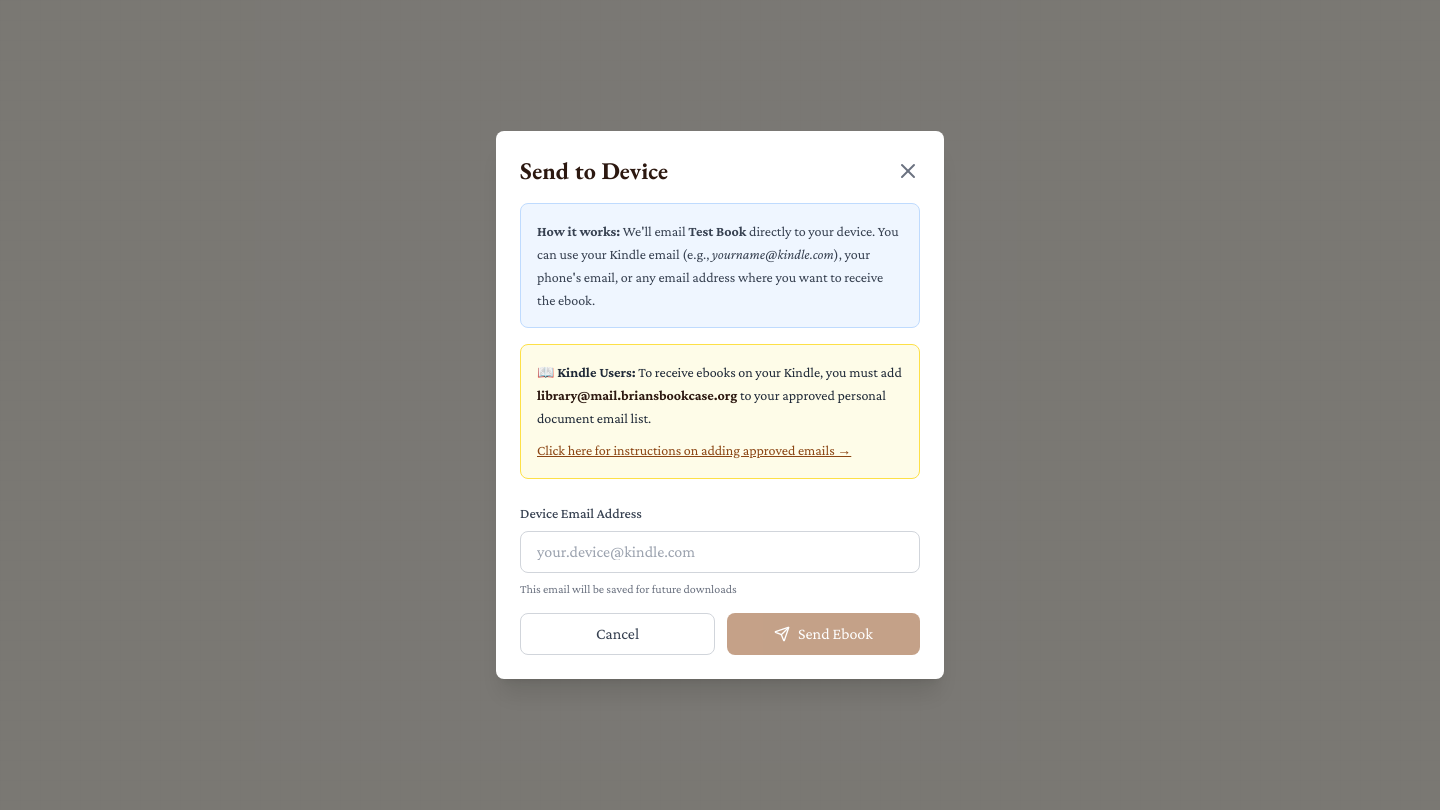
SendToDeviceModal › should show error message on failed send
Type "test@kindle.com" into the field with placeholder "your.device@kindle.com" at (720, 552), box [520,531,920,573]
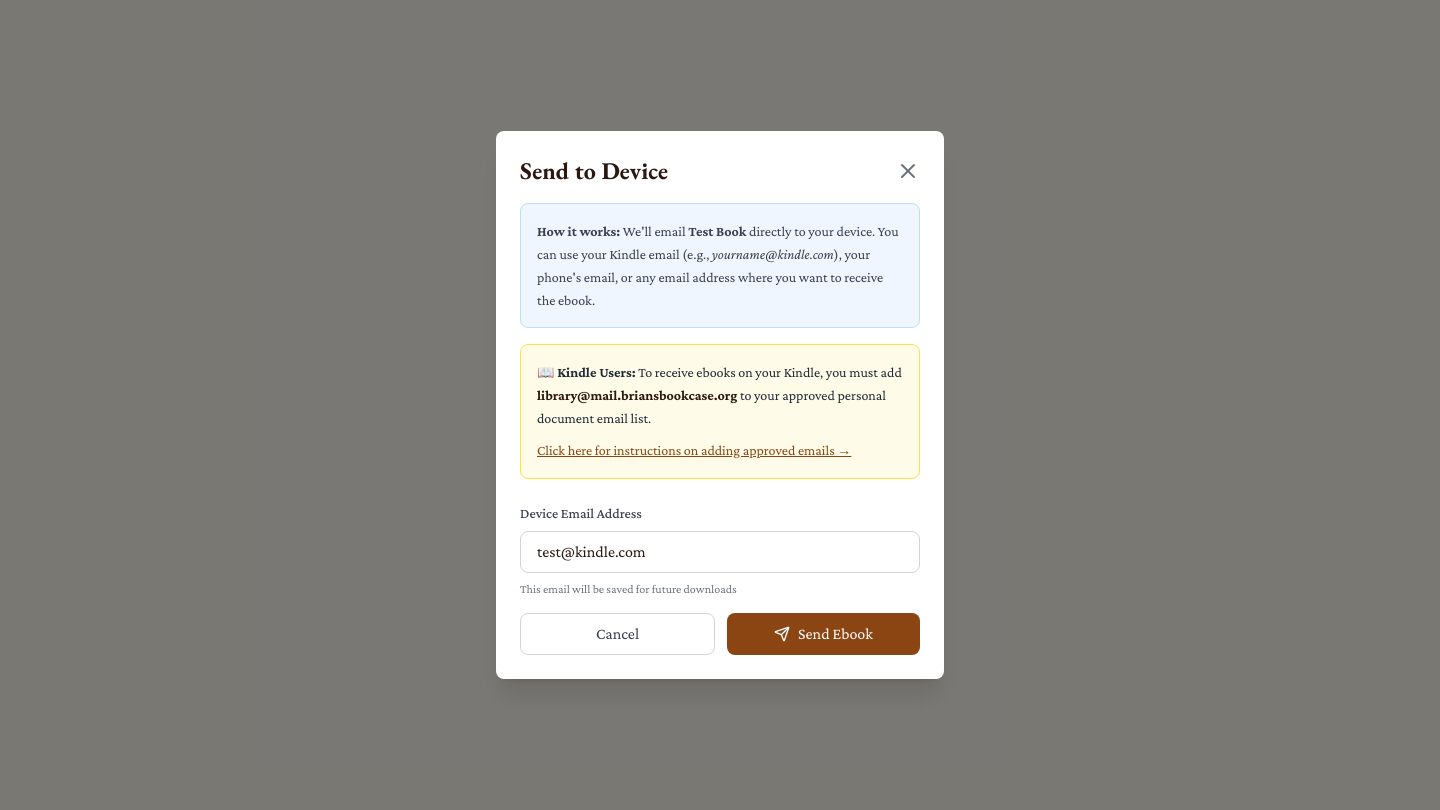
Click the button "Send Ebook" at (824, 634), box [727,613,920,655]
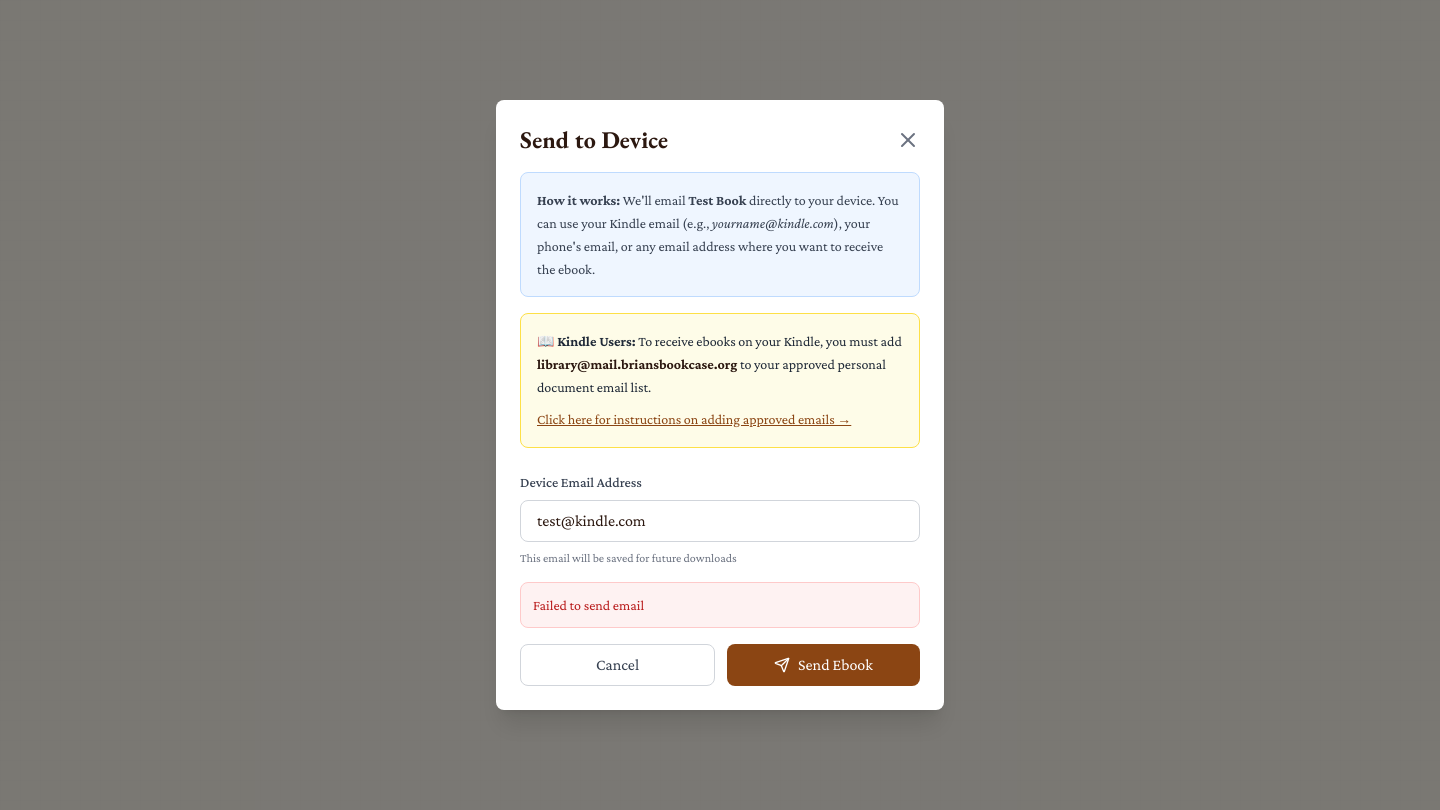
Check: the text "Failed to send email" is shown, box [533,597,644,613]
